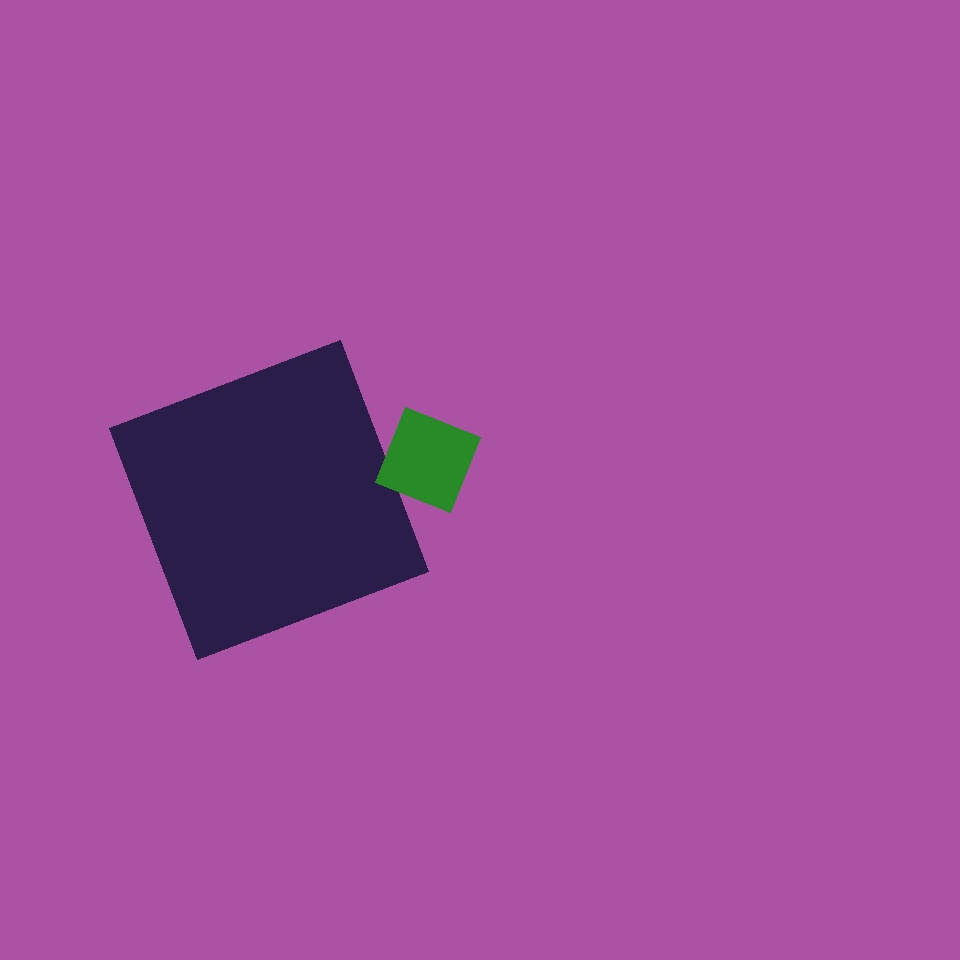circle: (525, 261, 761, 530)
square: (110, 341, 428, 660), (204, 143, 479, 418), (376, 408, 480, 513)
triangle: (633, 690, 880, 938), (166, 398, 299, 531)
